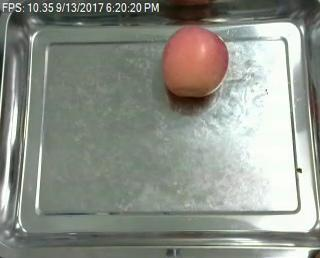apple: (162, 27, 229, 101)
